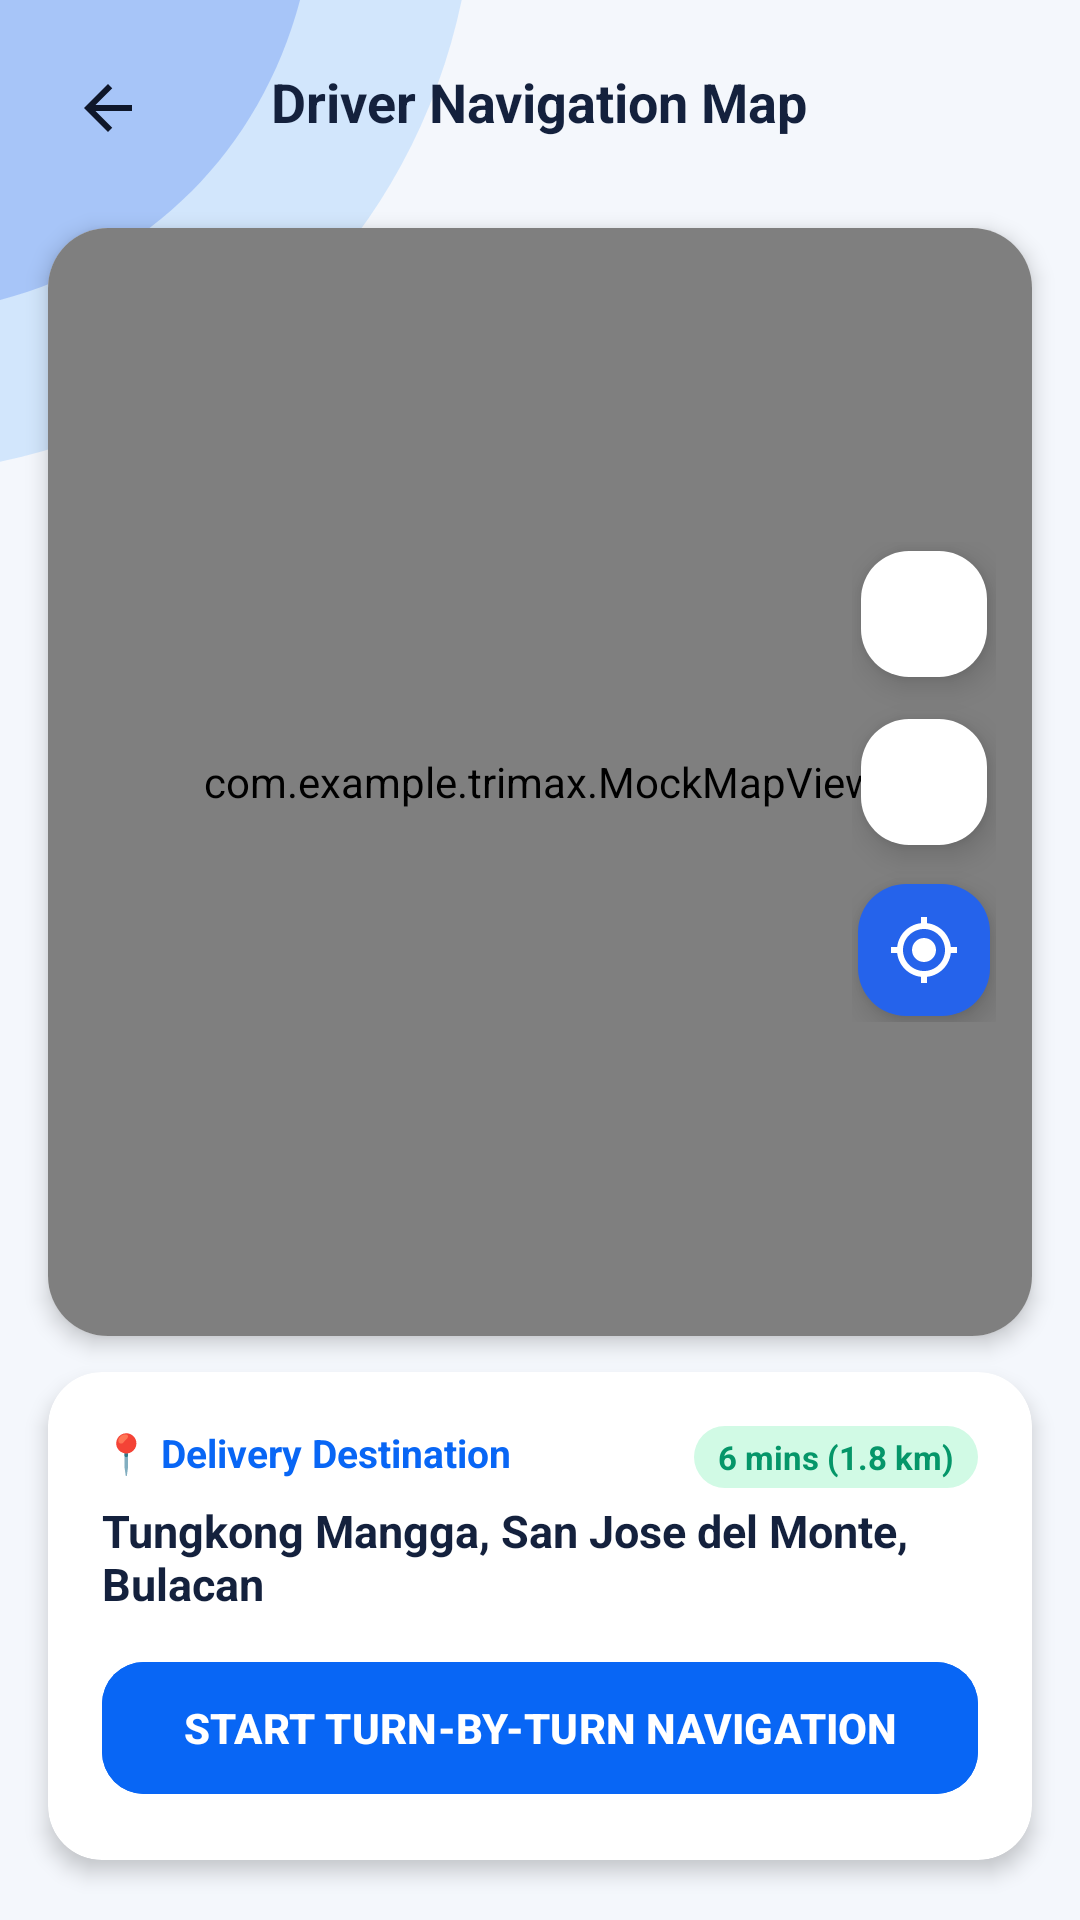

Screen size 1080×1920. Icon name, then its box in pixels as (x1, y1, x2, y2):
Back Button: (84, 84, 132, 132)
My Location: (858, 884, 990, 1016)
